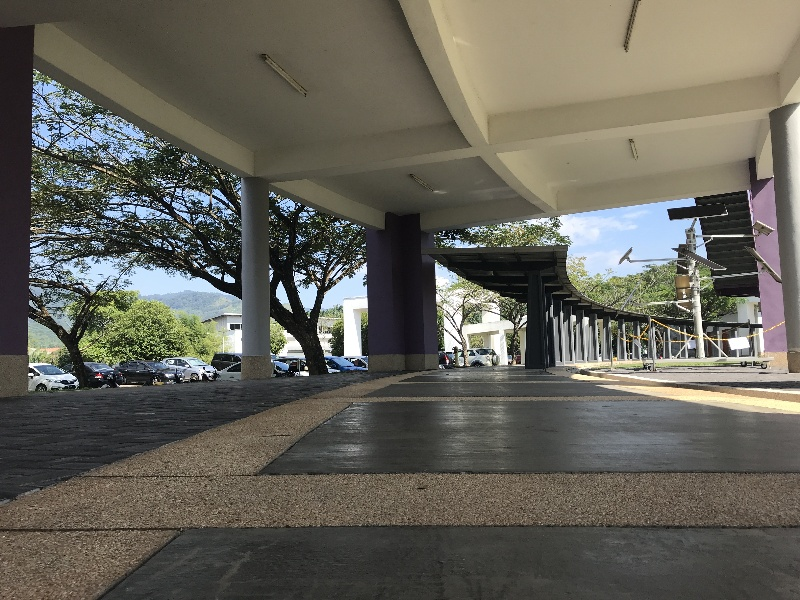Block D Pillar 5: (4, 6, 800, 550)
pillar: (2, 7, 66, 400), (348, 202, 450, 373), (741, 150, 800, 372), (229, 164, 286, 386), (518, 263, 554, 371)
